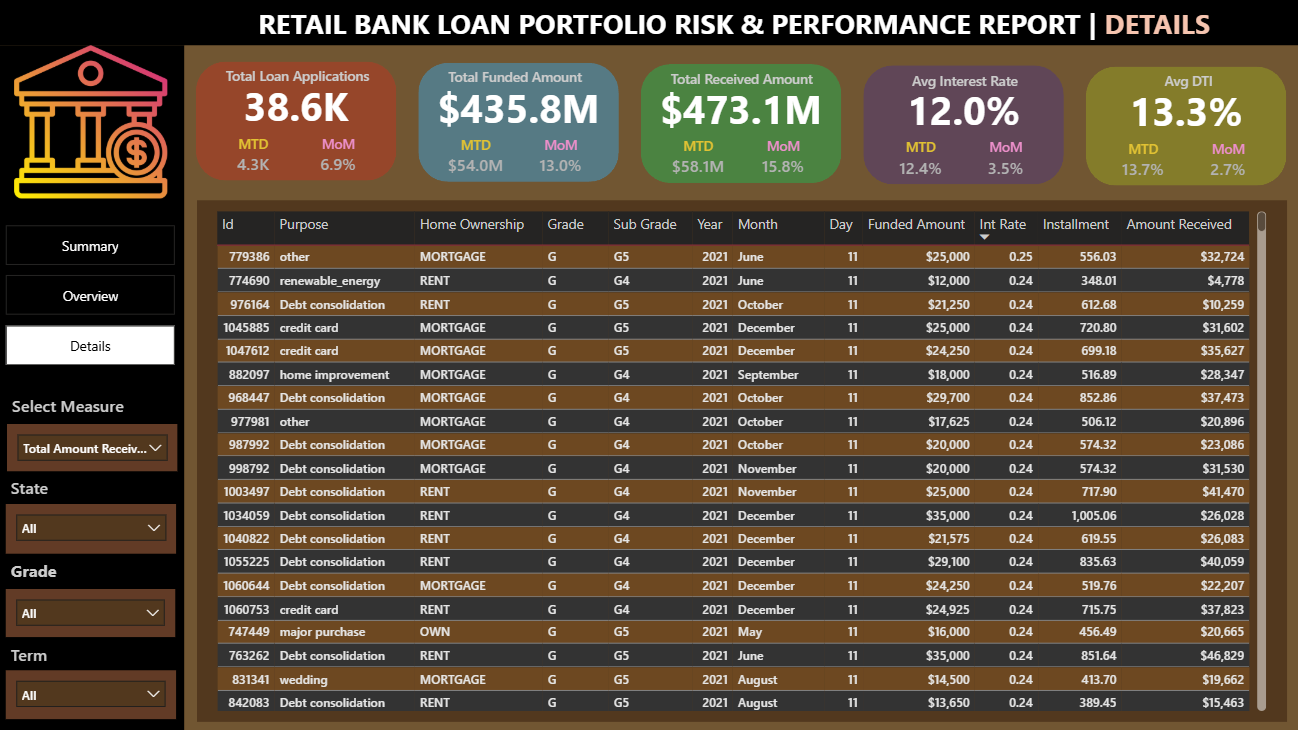

Layout of this report page (visuals, bound fields, positions):
{"tool":"powerbi","page":{"name":"Details","canvas":[1280,720],"ordinal":2},"visuals":[{"type":"shape","box":[195.1,61.4,197,117],"z":0,"group":"g1"},{"type":"shape","box":[413.5,62.6,197,117],"z":0,"group":"g2"},{"type":"shape","box":[631.9,63.8,197,117],"z":0,"group":"g3"},{"type":"shape","box":[850.3,65,197,117],"z":0,"group":"g4"},{"type":"shape","box":[1068.7,66.2,197,117],"z":0,"group":"g5"},{"type":"shape","box":[195.7,197.1,1070,512],"z":0},{"type":"shape","box":[0,0,1279.8,45.4],"z":1000},{"type":"card","fields":{"Values":["financial_loan.Total Loan Applications"]},"box":[195.1,81,197.5,47.9],"z":1000,"group":"g1"},{"type":"card","fields":{"Values":["Date Table.Total Funded Amount"]},"box":[413.5,82.2,197.5,47.9],"z":1000,"group":"g2"},{"type":"card","fields":{"Values":["Date Table.Total Amount Received"]},"box":[631.9,83.4,197.5,47.9],"z":1000,"group":"g3"},{"type":"card","fields":{"Values":["financial_loan.Avg Interest Rate"]},"box":[850.3,84.6,197.5,47.9],"z":1000,"group":"g4"},{"type":"card","fields":{"Values":["Date Table.Avg DTI"]},"box":[1068.7,85.8,197.5,47.9],"z":1000,"group":"g5"},{"type":"shape","box":[0,45,183.8,675],"z":2000},{"type":"textbox","box":[219.6,61.4,193.9,39.3],"z":2000,"group":"g1"},{"type":"textbox","box":[438,62.6,193.9,39.3],"z":2000,"group":"g2"},{"type":"textbox","box":[656.4,63.8,193.9,39.3],"z":2000,"group":"g3"},{"type":"textbox","box":[1141.4,65.9,138.7,31.9],"z":2000,"group":"g5"},{"type":"textbox","box":[892.9,66.2,193.9,39.3],"z":2000,"group":"g4"},{"type":"textbox","box":[251.5,1.2,959.5,45.4],"z":3000},{"type":"card","title":"MTD","fields":{"Values":["financial_loan.MTD Loan Applications"]},"box":[209.8,132.6,83.4,45.4],"z":3000,"group":"g1"},{"type":"card","title":"MTD","fields":{"Values":["Date Table.MTD Funded Amount"]},"box":[428.2,133.8,83.4,45.4],"z":3000,"group":"g2"},{"type":"card","title":"MTD","fields":{"Values":["financial_loan.MTD Total Amount Recieved"]},"box":[646.6,135,83.4,45.4],"z":3000,"group":"g3"},{"type":"card","title":"MTD","fields":{"Values":["Date Table.MTD Avg Int Rate"]},"box":[865,136.2,83.4,45.4],"z":3000,"group":"g4"},{"type":"card","title":"MTD","fields":{"Values":["Date Table.MTD Avg DTI"]},"box":[1083.4,137.4,83.4,45.4],"z":3000,"group":"g5"},{"type":"group","id":"g1","title":"Group 1","box":[195.1,61.4,218.4,116.6],"z":4000},{"type":"card","title":"MoM","fields":{"Values":["Date Table.MoM Loan Applications"]},"box":[293.3,132.6,83.4,45.4],"z":4000,"group":"g1"},{"type":"card","title":"MoM","fields":{"Values":["Date Table.MoM Total Funded Amount"]},"box":[511.7,133.8,83.4,45.4],"z":4000,"group":"g2"},{"type":"card","title":"MoM","fields":{"Values":["Date Table.MoM Total Recieved Amount"]},"box":[730.1,135,83.4,45.4],"z":4000,"group":"g3"},{"type":"card","title":"MoM","fields":{"Values":["Date Table.MoM Avg Int Rate"]},"box":[948.5,136.2,83.4,45.4],"z":4000,"group":"g4"},{"type":"card","title":"MoM","fields":{"Values":["Date Table.MoM Avg DTI"]},"box":[1166.9,137.4,83.4,45.4],"z":4000,"group":"g5"},{"type":"group","id":"g2","title":"Group 1","box":[413.5,62.6,218.4,116.6],"z":5000},{"type":"group","id":"g3","title":"Group 1","box":[631.9,63.8,218.4,116.6],"z":6000},{"type":"group","id":"g4","title":"Group 1","box":[850.3,65,236.4,117],"z":7000},{"type":"group","id":"g5","title":"Group 1","box":[1068.7,65.9,211.4,117.3],"z":8000},{"type":"slicer","fields":{"Values":["financial_loan.address_state"]},"box":[8.8,496.2,167.5,48.8],"z":9000},{"type":"textbox","box":[8.8,463.8,67.5,32.5],"z":10000},{"type":"slicer","fields":{"Values":["financial_loan.grade"]},"box":[8.8,578.8,166.2,47.5],"z":11000},{"type":"textbox","box":[8.8,545,67.5,33.8],"z":12000},{"type":"slicer","fields":{"Values":["financial_loan.term"]},"box":[8.6,658.9,166.9,47.9],"z":13000},{"type":"textbox","box":[8.6,627,83.4,31.9],"z":14000},{"type":"slicer","fields":{"Values":["Select Measure.Select Measure"]},"box":[10,417.5,167.5,46.2],"z":15000},{"type":"textbox","box":[10,382.5,150,32.5],"z":16000},{"type":"tableEx","fields":{"Values":["financial_loan.id","financial_loan.purpose","financial_loan.home_ownership","financial_loan.grade","financial_loan.sub_grade","Date Table.Date.Variation.Date Hierarchy.Year","Date Table.Date.Variation.Date Hierarchy.Month","Date Table.Date.Variation.Date Hierarchy.Day","Date Table.Total Funded Amount","Sum(financial_loan.int_rate)","Sum(financial_loan.installment)","Date Table.Total Amount Received"]},"box":[210,203.8,1041.2,500],"z":17000},{"type":"pageNavigator","box":[8.8,222.5,166.2,137.5],"z":18000},{"type":"image","box":[0,45,183.8,150],"z":19000}]}

Visuals, with their boxes in screenshot pixels (x1, y1, x2, y2), scaled from the page's 1280x720 canvas onto the 1298x730 screenshot:
shape: 198, 62, 398, 181
shape: 419, 63, 619, 182
shape: 641, 65, 841, 183
shape: 862, 66, 1062, 185
shape: 1084, 67, 1283, 186
shape: 198, 200, 1283, 719
shape: 0, 0, 1297, 46
card - financial_loan.Total Loan Applications: 198, 82, 398, 131
card - Date Table.Total Funded Amount: 419, 83, 620, 132
card - Date Table.Total Amount Received: 641, 85, 841, 133
card - financial_loan.Avg Interest Rate: 862, 86, 1063, 134
card - Date Table.Avg DTI: 1084, 87, 1284, 136
shape: 0, 46, 186, 729
textbox: 223, 62, 419, 102
textbox: 444, 63, 641, 103
textbox: 666, 65, 862, 105
textbox: 1157, 67, 1297, 99
textbox: 905, 67, 1102, 107
textbox: 255, 1, 1228, 47
"MTD" card: 213, 134, 297, 180
"MTD" card: 434, 136, 519, 182
"MTD" card: 656, 137, 740, 183
"MTD" card: 877, 138, 962, 184
"MTD" card: 1099, 139, 1183, 185
"Group 1" group: 198, 62, 419, 180
"MoM" card: 297, 134, 382, 180
"MoM" card: 519, 136, 603, 182
"MoM" card: 740, 137, 825, 183
"MoM" card: 962, 138, 1046, 184
"MoM" card: 1183, 139, 1268, 185
"Group 1" group: 419, 63, 641, 182
"Group 1" group: 641, 65, 862, 183
"Group 1" group: 862, 66, 1102, 185
"Group 1" group: 1084, 67, 1297, 186
slicer - financial_loan.address_state: 9, 503, 179, 553
textbox: 9, 470, 77, 503
slicer - financial_loan.grade: 9, 587, 177, 635
textbox: 9, 553, 77, 587
slicer - financial_loan.term: 9, 668, 178, 717
textbox: 9, 636, 93, 668
slicer - Select Measure.Select Measure: 10, 423, 180, 470
textbox: 10, 388, 162, 421
tableEx - financial_loan.id x financial_loan.purpose: 213, 207, 1269, 714
pageNavigator: 9, 226, 177, 365
image: 0, 46, 186, 198
